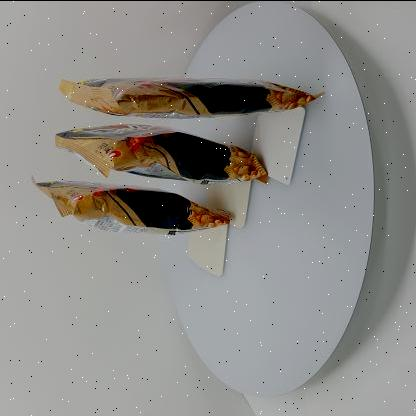Others: (25, 63, 329, 241)
